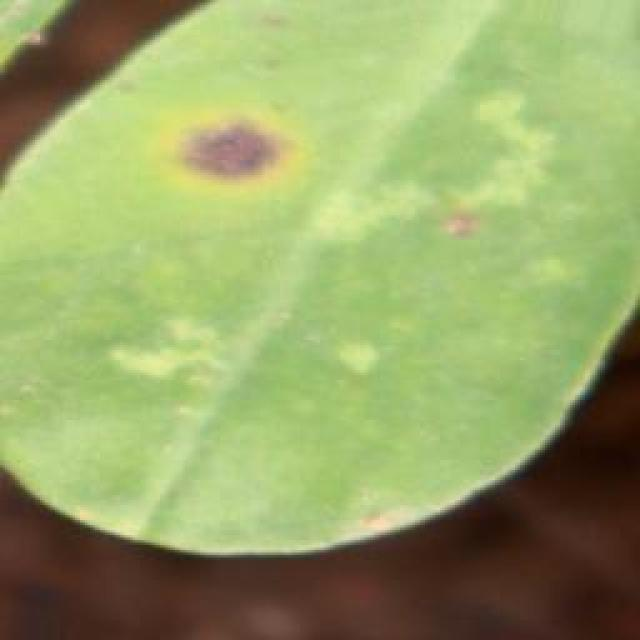Sigatoka: (138, 93, 299, 226), (388, 197, 494, 265)
